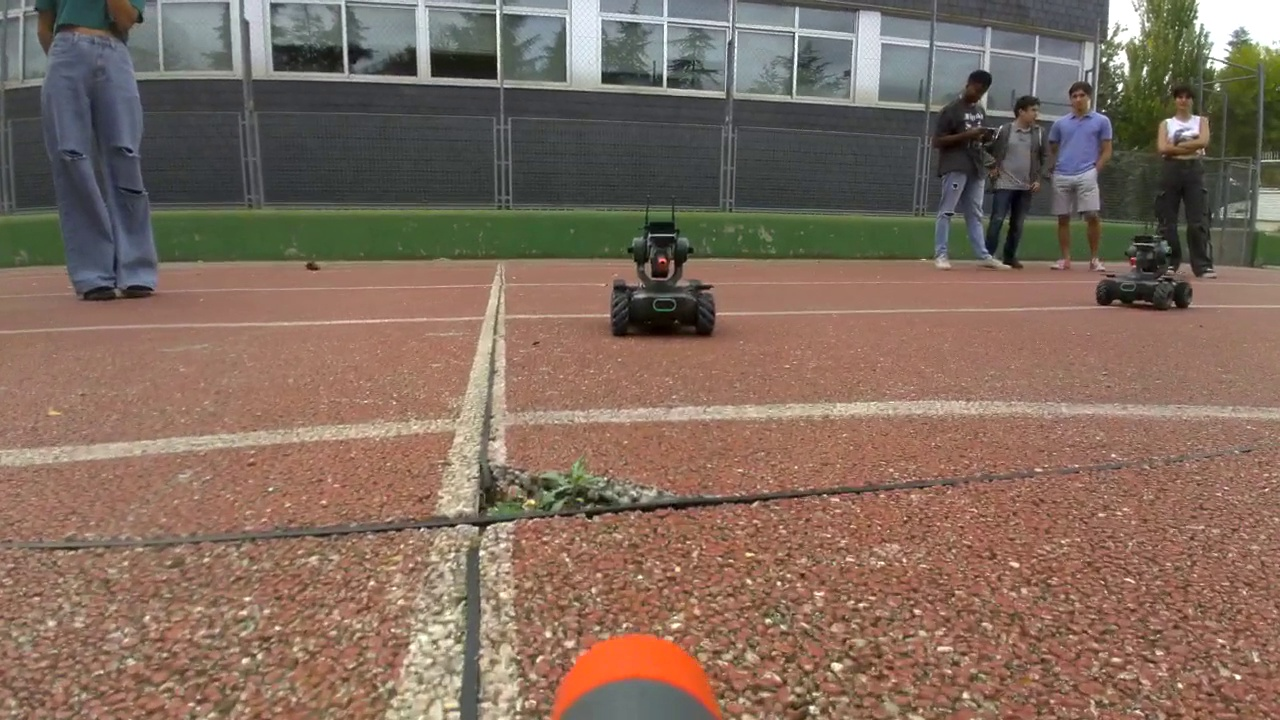robot: (611, 221, 715, 337), (1097, 236, 1192, 311)
